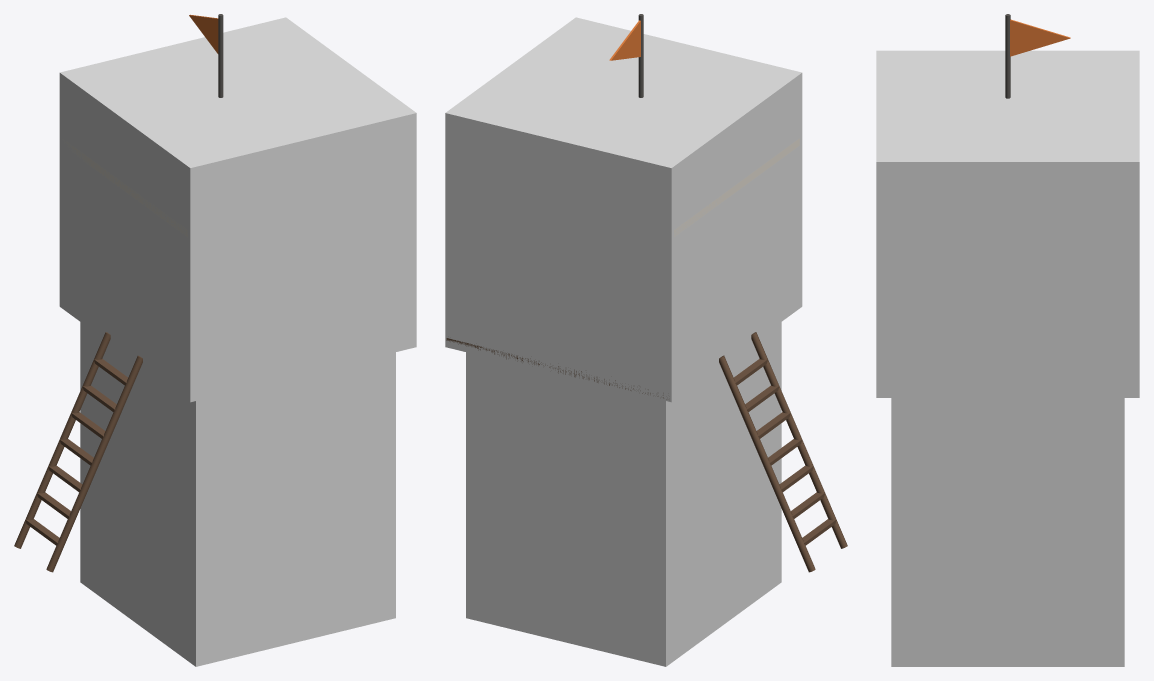
The picture shows the model from 3 angles, left to right: view 1: azimuth 30°, elevation 25°; view 2: azimuth 150°, elevation 25°; view 3: azimuth 270°, elevation 25°; orthographic projection.
Visible parts, largest first — view 1: col_hut, col_piles, T11_body; view 2: col_hut, col_piles, T11_body; view 3: col_hut, col_piles, T11_body.
Part boxes in pixels (<box>): col_hut: <box>59,17,416,402</box>; col_piles: <box>80,322,395,666</box>; T11_body: <box>14,14,223,572</box>; col_hut: <box>445,17,802,402</box>; col_piles: <box>466,322,781,666</box>; T11_body: <box>446,14,847,572</box>; col_hut: <box>876,50,1139,397</box>; col_piles: <box>891,398,1124,666</box>; T11_body: <box>1005,14,1070,98</box>.
Size of the model in its own units: 3.69 by 6.47 by 2.6.
